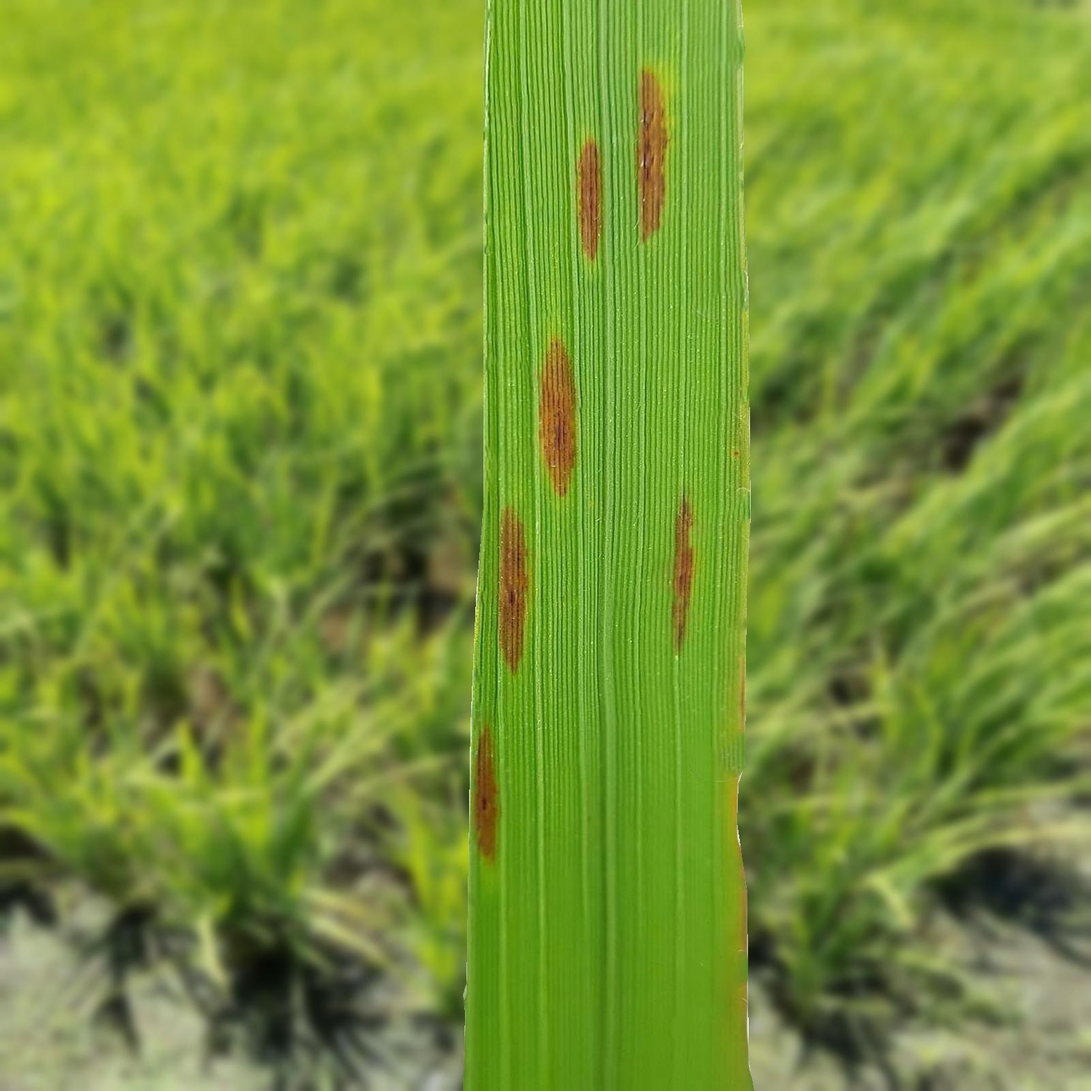LEAF: (463, 0, 753, 1090)
NBS: (539, 338, 576, 496), (637, 70, 668, 241), (499, 507, 528, 674), (472, 724, 498, 862), (672, 496, 695, 652), (578, 138, 601, 260)
